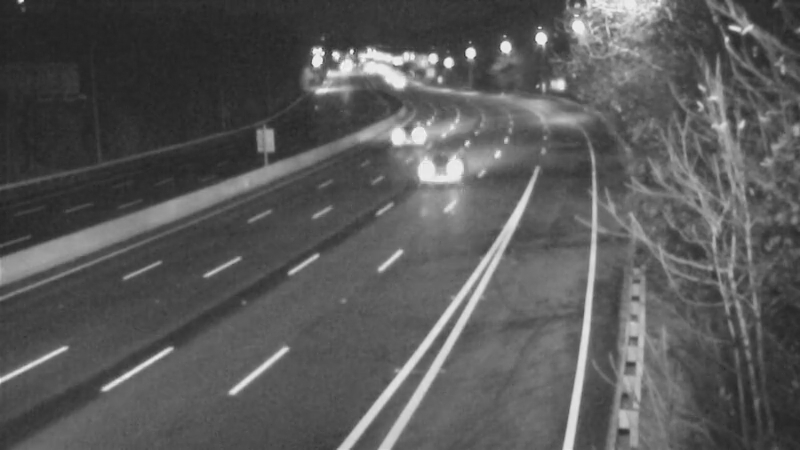vehicle: (395, 125, 475, 205), (380, 110, 430, 160)
